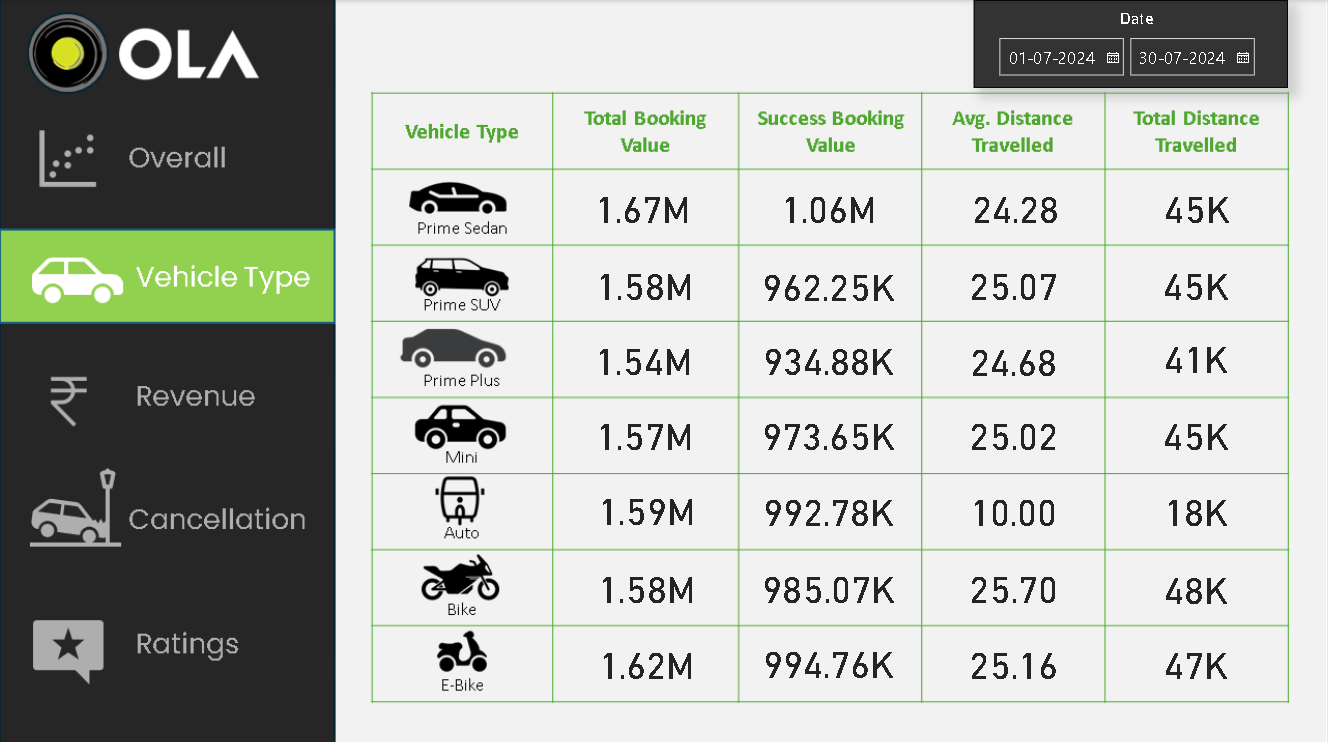

What the dashboard file says about the page in this screenshot:
{"tool":"powerbi","page":{"name":"Vehicle Type","canvas":[1280,720],"ordinal":1},"visuals":[{"type":"actionButton","box":[0,339,323.2,89.5],"z":0},{"type":"actionButton","box":[0,222.2,323.2,89.5],"z":1000},{"type":"actionButton","box":[0,109.6,323.2,89.5],"z":2000},{"type":"actionButton","box":[0,451.6,323.2,89.5],"z":3000},{"type":"actionButton","box":[0,578.5,323.2,89.5],"z":4000},{"type":"card","fields":{"Values":["Sum(Bookings1.Booking_Value)"]},"box":[542.8,170.9,154.8,57],"z":5000},{"type":"card","fields":{"Values":["Sum(Bookings1.Booking_Value)"]},"box":[545.4,245.3,154.4,57.7],"z":6000},{"type":"card","fields":{"Values":["Sum(Bookings1.Booking_Value)"]},"box":[543.9,317.4,154.4,57.7],"z":7000},{"type":"card","fields":{"Values":["Sum(Bookings1.Booking_Value)"]},"box":[545.4,389.5,154.4,57.7],"z":8000},{"type":"card","fields":{"Values":["Sum(Bookings1.Booking_Value)"]},"box":[546.8,461.7,154.4,57.7],"z":9000},{"type":"card","fields":{"Values":["Sum(Bookings1.Booking_Value)"]},"box":[546.8,536.7,154.4,57.7],"z":10000},{"type":"card","fields":{"Values":["Sum(Bookings1.Booking_Value)"]},"box":[546.8,610.3,154.4,57.7],"z":11000},{"type":"card","fields":{"Values":["Sum(Bookings1.Booking_Value)"]},"box":[722.6,170.9,154.8,57],"z":12000},{"type":"card","fields":{"Values":["Avg(Bookings1.Ride_Distance)"]},"box":[902.4,170.9,154.8,57],"z":13000},{"type":"card","fields":{"Values":["Sum(Bookings1.Booking_Value)"]},"box":[722.6,245.6,154.8,57],"z":14000},{"type":"card","fields":{"Values":["Sum(Bookings1.Booking_Value)"]},"box":[722.6,316.8,154.8,57],"z":15000},{"type":"card","fields":{"Values":["Sum(Bookings1.Booking_Value)"]},"box":[722.6,462.7,154.8,57],"z":16000},{"type":"card","fields":{"Values":["Sum(Bookings1.Booking_Value)"]},"box":[722.6,389.8,154.8,57],"z":17000},{"type":"card","fields":{"Values":["Sum(Bookings1.Booking_Value)"]},"box":[722.6,537.5,154.8,57],"z":18000},{"type":"card","fields":{"Values":["Sum(Bookings1.Booking_Value)"]},"box":[722.6,610.5,154.8,57],"z":19000},{"type":"card","fields":{"Values":["Avg(Bookings1.Ride_Distance)"]},"box":[901.7,245.3,154.4,57.7],"z":20000},{"type":"card","fields":{"Values":["Avg(Bookings1.Ride_Distance)"]},"box":[901.7,318.9,154.4,56.3],"z":21000},{"type":"card","fields":{"Values":["Avg(Bookings1.Ride_Distance)"]},"box":[901.7,389.5,154.4,57.7],"z":22000},{"type":"card","fields":{"Values":["Avg(Bookings1.Ride_Distance)"]},"box":[901.7,463.1,154.4,56.3],"z":23000},{"type":"card","fields":{"Values":["Bookings1.Avg_Distance"]},"box":[901.7,536.7,154.4,57.7],"z":24000},{"type":"card","fields":{"Values":["Bookings1.Avg_Distance"]},"box":[901.7,610.3,154.4,57.7],"z":25000},{"type":"card","fields":{"Values":["Sum(Bookings1.Ride_Distance)"]},"box":[1077.7,170.2,155.8,57.7],"z":26000},{"type":"card","fields":{"Values":["Sum(Bookings1.Ride_Distance)"]},"box":[1077.7,245.3,154.4,57.7],"z":27000},{"type":"card","fields":{"Values":["Sum(Bookings1.Ride_Distance)"]},"box":[1077.7,316,154.4,56.3],"z":28000},{"type":"card","fields":{"Values":["Sum(Bookings1.Ride_Distance)"]},"box":[1077.7,389.5,154.4,57.7],"z":29000},{"type":"card","fields":{"Values":["Sum(Bookings1.Ride_Distance)"]},"box":[1077.7,463.1,154.4,56.3],"z":30000},{"type":"card","fields":{"Values":["Sum(Bookings1.Ride_Distance)"]},"box":[1077.7,538.2,154.4,57.7],"z":31000},{"type":"card","fields":{"Values":["Sum(Bookings1.Ride_Distance)"]},"box":[1077.7,610.3,154.4,57.7],"z":32000},{"type":"slicer","title":"Date","fields":{"Values":["Bookings1.Date"]},"box":[939.2,0,303,85.1],"z":32001}]}

Visuals, with their boxes on the page's 1280x720 design canvas (x1, y1, x2, y2). These are canvas units, not pixel positions in the 1328x742 screenshot, which may show the page scaled, cropped or inside an application window:
actionButton: rect(0, 339, 323, 428)
actionButton: rect(0, 222, 323, 312)
actionButton: rect(0, 110, 323, 199)
actionButton: rect(0, 452, 323, 541)
actionButton: rect(0, 578, 323, 668)
card - Sum(Bookings1.Booking_Value): rect(543, 171, 698, 228)
card - Sum(Bookings1.Booking_Value): rect(545, 245, 700, 303)
card - Sum(Bookings1.Booking_Value): rect(544, 317, 698, 375)
card - Sum(Bookings1.Booking_Value): rect(545, 390, 700, 447)
card - Sum(Bookings1.Booking_Value): rect(547, 462, 701, 519)
card - Sum(Bookings1.Booking_Value): rect(547, 537, 701, 594)
card - Sum(Bookings1.Booking_Value): rect(547, 610, 701, 668)
card - Sum(Bookings1.Booking_Value): rect(723, 171, 877, 228)
card - Avg(Bookings1.Ride_Distance): rect(902, 171, 1057, 228)
card - Sum(Bookings1.Booking_Value): rect(723, 246, 877, 303)
card - Sum(Bookings1.Booking_Value): rect(723, 317, 877, 374)
card - Sum(Bookings1.Booking_Value): rect(723, 463, 877, 520)
card - Sum(Bookings1.Booking_Value): rect(723, 390, 877, 447)
card - Sum(Bookings1.Booking_Value): rect(723, 538, 877, 594)
card - Sum(Bookings1.Booking_Value): rect(723, 610, 877, 668)
card - Avg(Bookings1.Ride_Distance): rect(902, 245, 1056, 303)
card - Avg(Bookings1.Ride_Distance): rect(902, 319, 1056, 375)
card - Avg(Bookings1.Ride_Distance): rect(902, 390, 1056, 447)
card - Avg(Bookings1.Ride_Distance): rect(902, 463, 1056, 519)
card - Bookings1.Avg_Distance: rect(902, 537, 1056, 594)
card - Bookings1.Avg_Distance: rect(902, 610, 1056, 668)
card - Sum(Bookings1.Ride_Distance): rect(1078, 170, 1234, 228)
card - Sum(Bookings1.Ride_Distance): rect(1078, 245, 1232, 303)
card - Sum(Bookings1.Ride_Distance): rect(1078, 316, 1232, 372)
card - Sum(Bookings1.Ride_Distance): rect(1078, 390, 1232, 447)
card - Sum(Bookings1.Ride_Distance): rect(1078, 463, 1232, 519)
card - Sum(Bookings1.Ride_Distance): rect(1078, 538, 1232, 596)
card - Sum(Bookings1.Ride_Distance): rect(1078, 610, 1232, 668)
"Date" slicer: rect(939, 0, 1242, 85)
